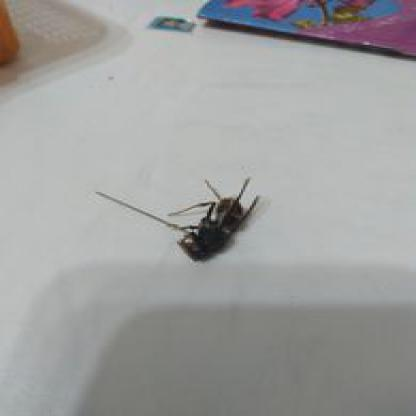Asian Hornet: (145, 182, 262, 266)
